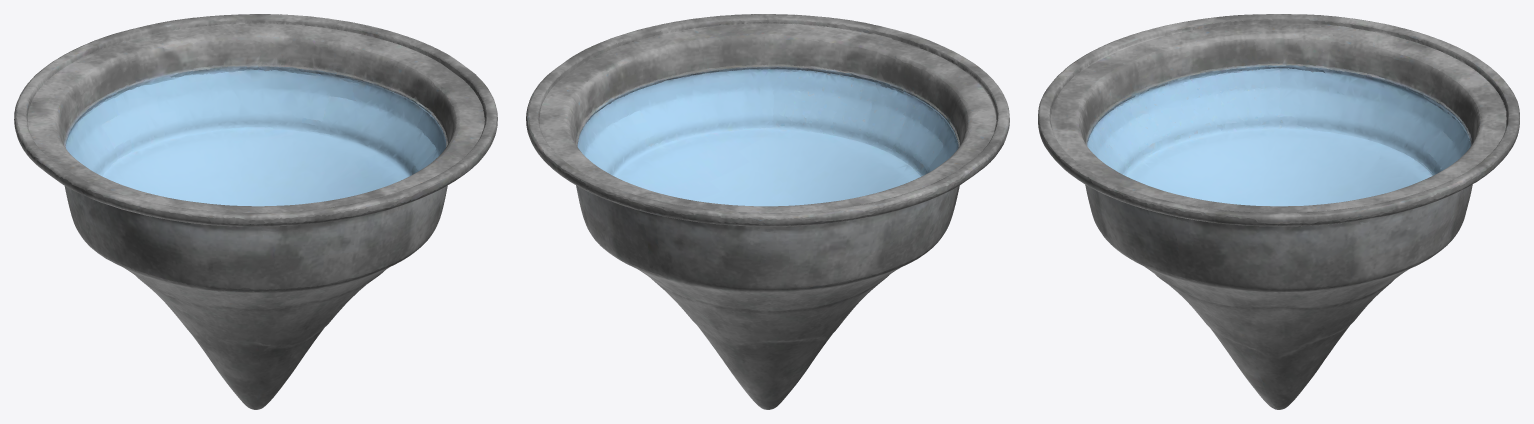
The model's file is 05_tianguo.glb.
3 renders of one model, left to right at view 1: azimuth 30°, elevation 25°; view 2: azimuth 150°, elevation 25°; view 3: azimuth 270°, elevation 25°, orthographic.
Visible parts, largest first — view 1: geometry_0; view 2: geometry_0; view 3: geometry_0.
Boxes of the visible parts, left/top/right/bottom form: geometry_0: left=14, top=14, right=497, bottom=409; geometry_0: left=526, top=14, right=1009, bottom=409; geometry_0: left=1038, top=14, right=1519, bottom=409.
Size of the model in its own units: 0.3 by 0.2021 by 0.2999.
1 material, 1 textured.
